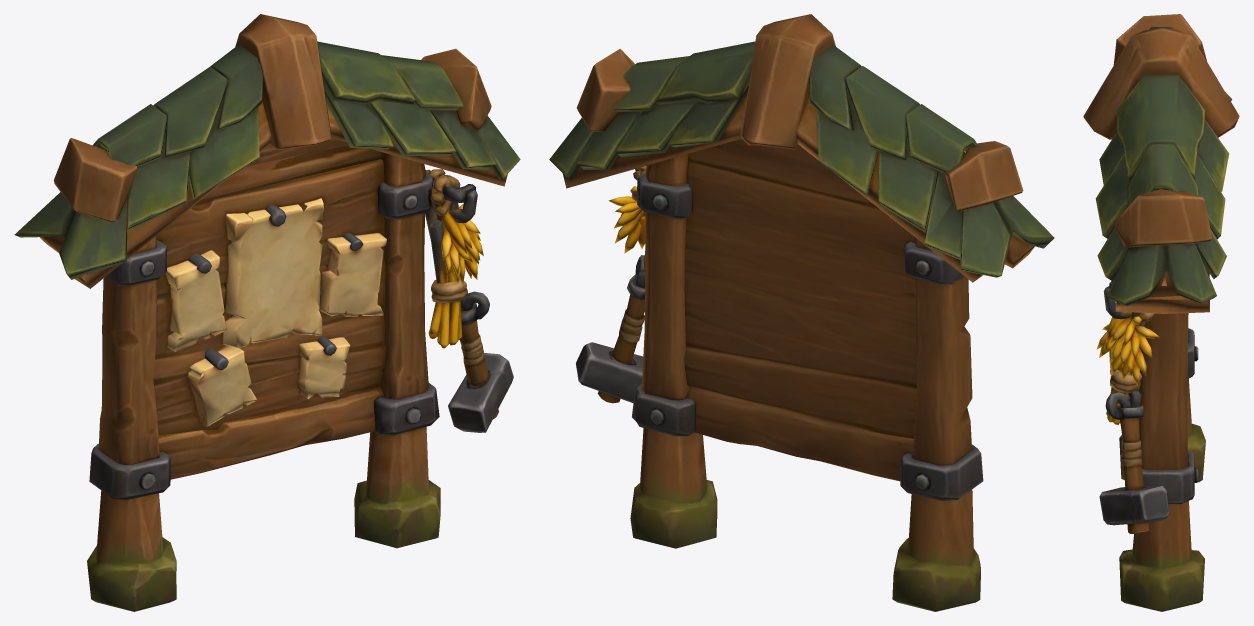
File: tableau_commandes.glb
3 views of the same model, side by side, from view 1: azimuth 30°, elevation 25°; view 2: azimuth 150°, elevation 25°; view 3: azimuth 270°, elevation 25° (orthographic). The views are drawn at different scales.
Visible parts, largest first — view 1: geometry_0; view 2: geometry_0; view 3: geometry_0.
Part boxes in pixels (x1,y1,x2,y2): geometry_0: (14, 14, 520, 611); geometry_0: (549, 14, 1054, 611); geometry_0: (1083, 14, 1239, 611).
Size of the model in its own units: 0.855 by 0.9531 by 0.2652.
Materials: 1 (1 with a texture image).
